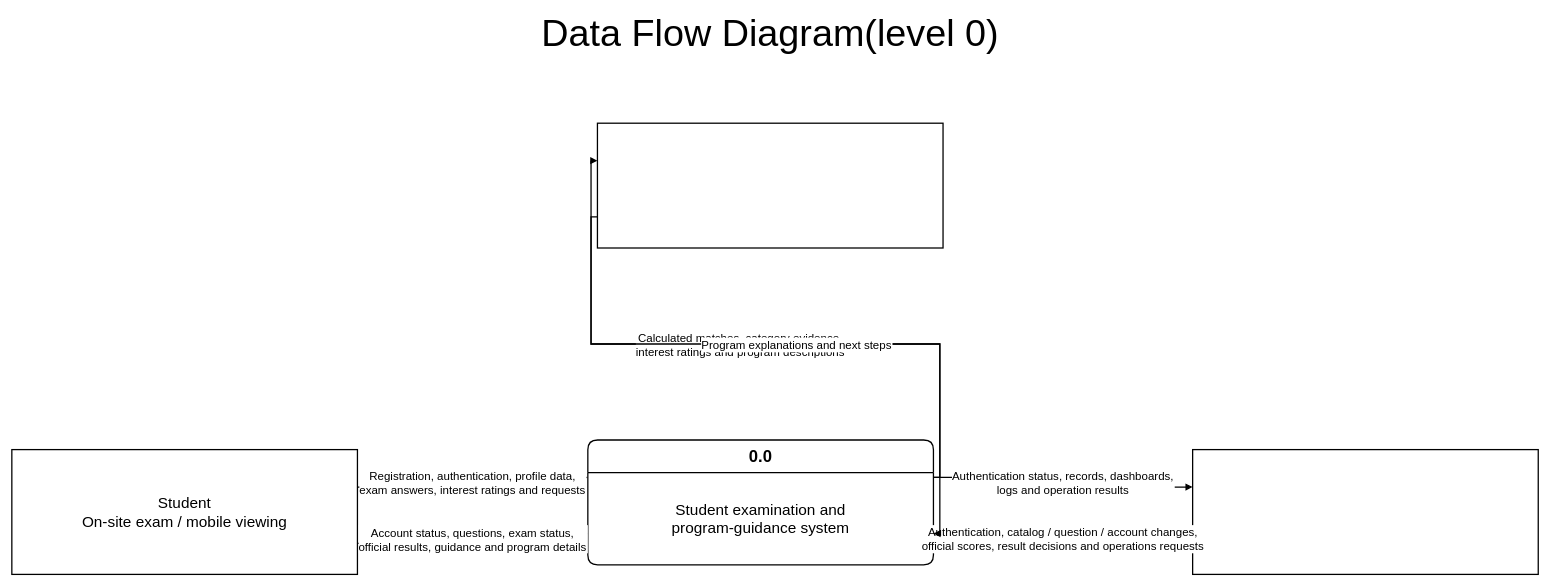
This 1549x586 diagram has some shape labels left out. The shapes that lost their labels are listed below. From the top down, each one's box as (x1, y1, x2, y2) in pixels, then its label:
(596, 122, 943, 248): Google Gemini
(1192, 449, 1539, 575): Authorized Admin
